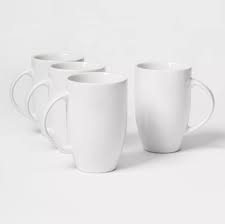cup: (133, 59, 217, 155)
